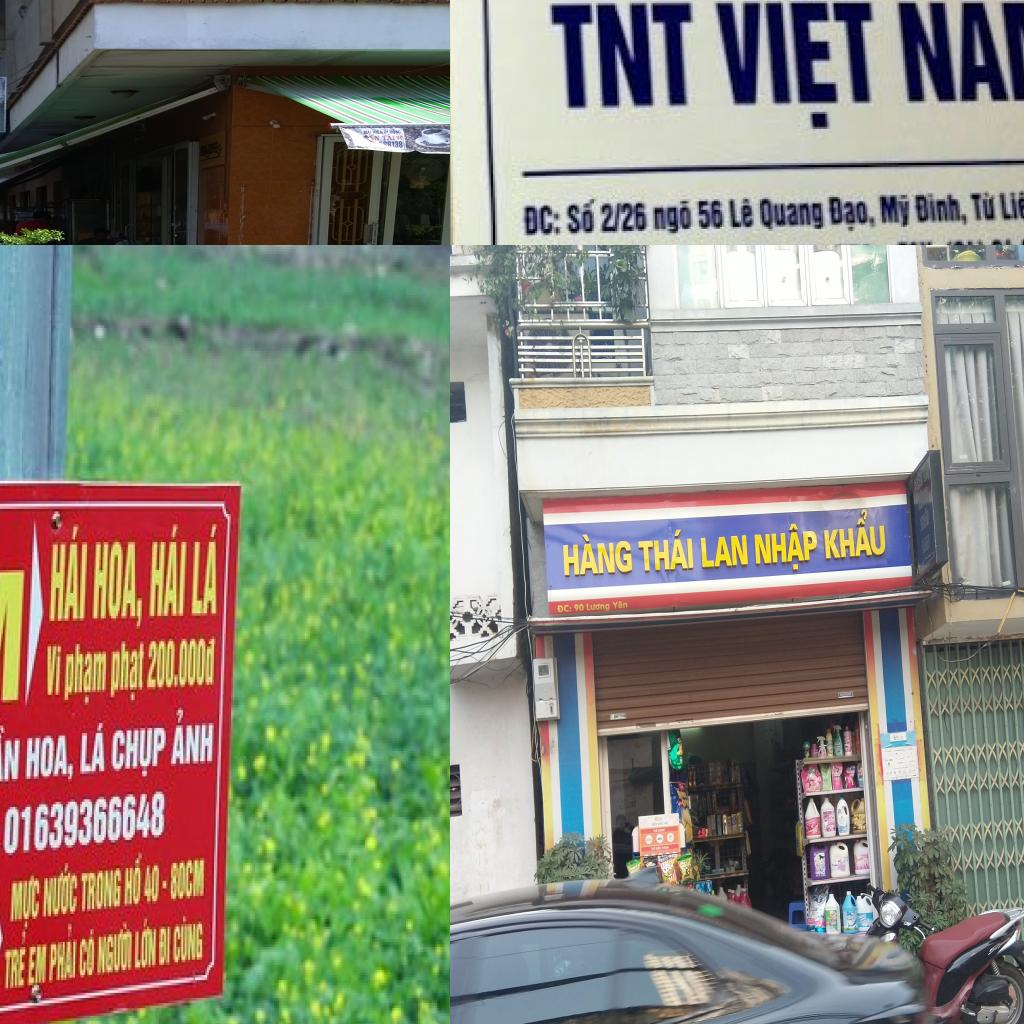text: (707, 0, 886, 129), (541, 0, 701, 112), (892, 3, 1024, 107), (3, 789, 168, 860), (92, 537, 145, 636), (145, 514, 190, 623), (48, 522, 90, 626), (146, 634, 218, 692), (110, 718, 170, 784), (821, 506, 888, 560), (753, 520, 819, 574), (60, 638, 109, 708), (562, 533, 634, 578), (168, 705, 216, 771), (192, 519, 222, 618), (758, 193, 827, 235), (24, 730, 75, 786), (109, 634, 149, 705), (637, 528, 695, 574), (44, 860, 80, 922), (825, 193, 878, 235), (6, 873, 42, 934), (914, 188, 970, 227), (96, 919, 133, 978), (82, 863, 123, 914), (48, 919, 78, 985), (76, 718, 108, 779), (600, 197, 651, 235), (516, 201, 562, 242), (169, 855, 207, 904), (651, 197, 697, 237), (700, 534, 749, 570), (876, 188, 916, 229), (5, 929, 30, 993), (564, 193, 602, 235), (0, 720, 21, 789), (122, 850, 146, 909), (134, 914, 158, 972), (44, 639, 65, 702), (995, 186, 1024, 226), (970, 188, 1002, 224), (693, 197, 726, 231), (726, 195, 758, 229), (28, 942, 48, 988), (80, 929, 97, 983), (146, 860, 162, 906), (157, 922, 173, 968), (888, 235, 947, 245), (912, 467, 924, 495), (919, 506, 930, 534), (586, 602, 611, 613), (920, 532, 930, 555), (660, 863, 674, 876), (556, 603, 572, 614), (612, 600, 628, 611), (386, 141, 405, 149), (573, 602, 585, 613), (382, 134, 396, 141), (666, 867, 674, 878), (388, 128, 402, 134), (372, 129, 384, 135), (360, 129, 372, 134), (650, 822, 658, 828), (662, 845, 670, 851), (832, 774, 840, 780), (373, 135, 380, 141), (656, 845, 662, 852), (847, 917, 855, 922), (658, 828, 665, 833), (383, 129, 389, 134), (658, 821, 664, 826), (650, 846, 656, 851), (653, 828, 658, 833), (664, 820, 668, 826)
